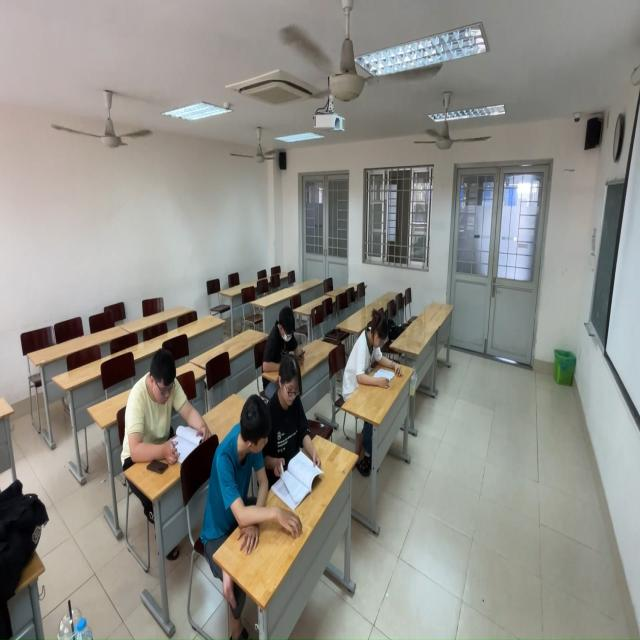read: (202, 393, 281, 557), (121, 351, 217, 468), (268, 358, 324, 493), (344, 309, 404, 394), (263, 306, 308, 372)
